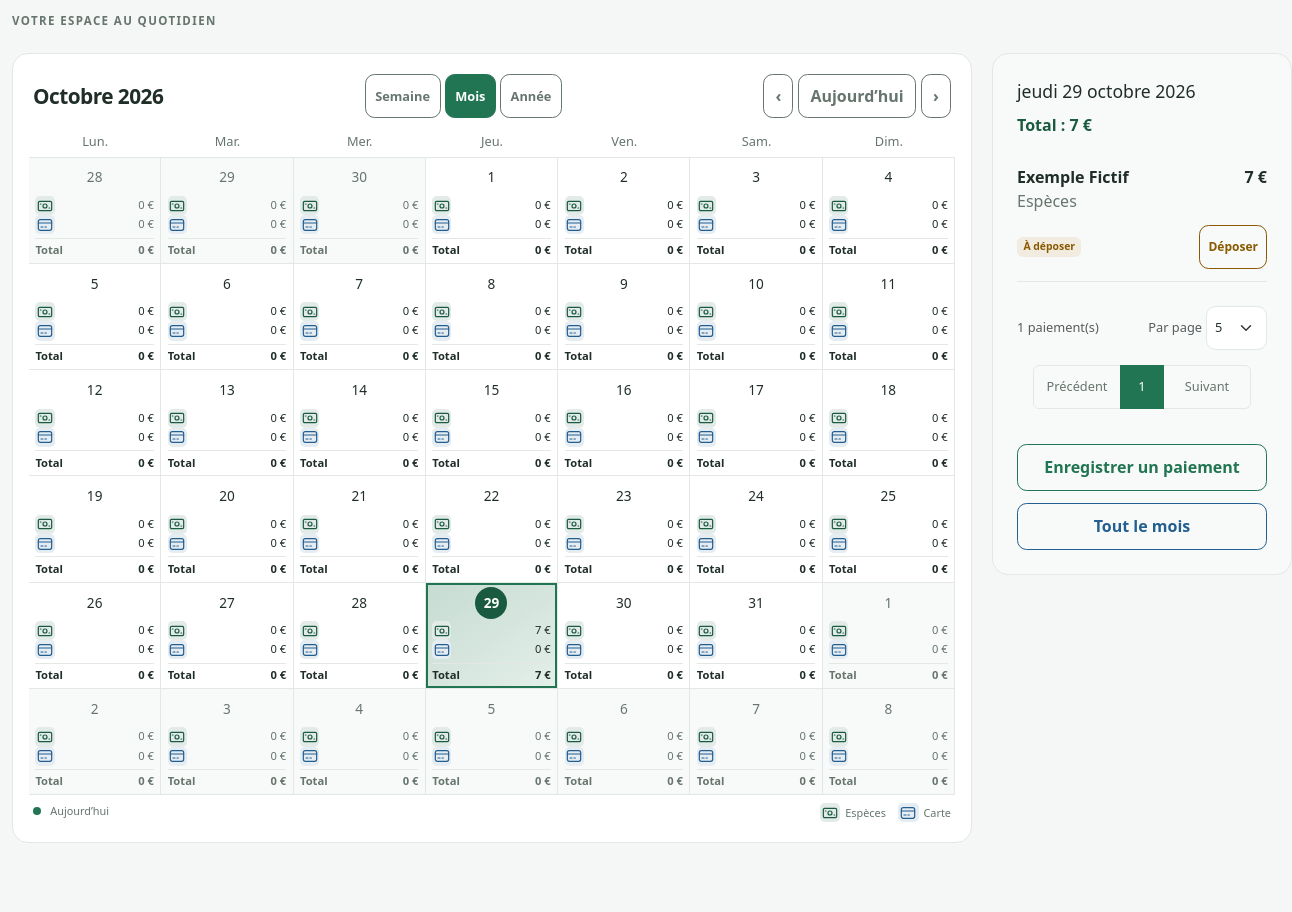
chargement lent : aucun ancien total/liste, réponses dépassées ignorées
Expected: the element named "Calendrier " is shown, [29,157,955,794]
Expected: the text "Total : 7 €" is shown, [1017,114,1092,136]
Click the button "Année" at (531, 96), box [500,74,562,118]
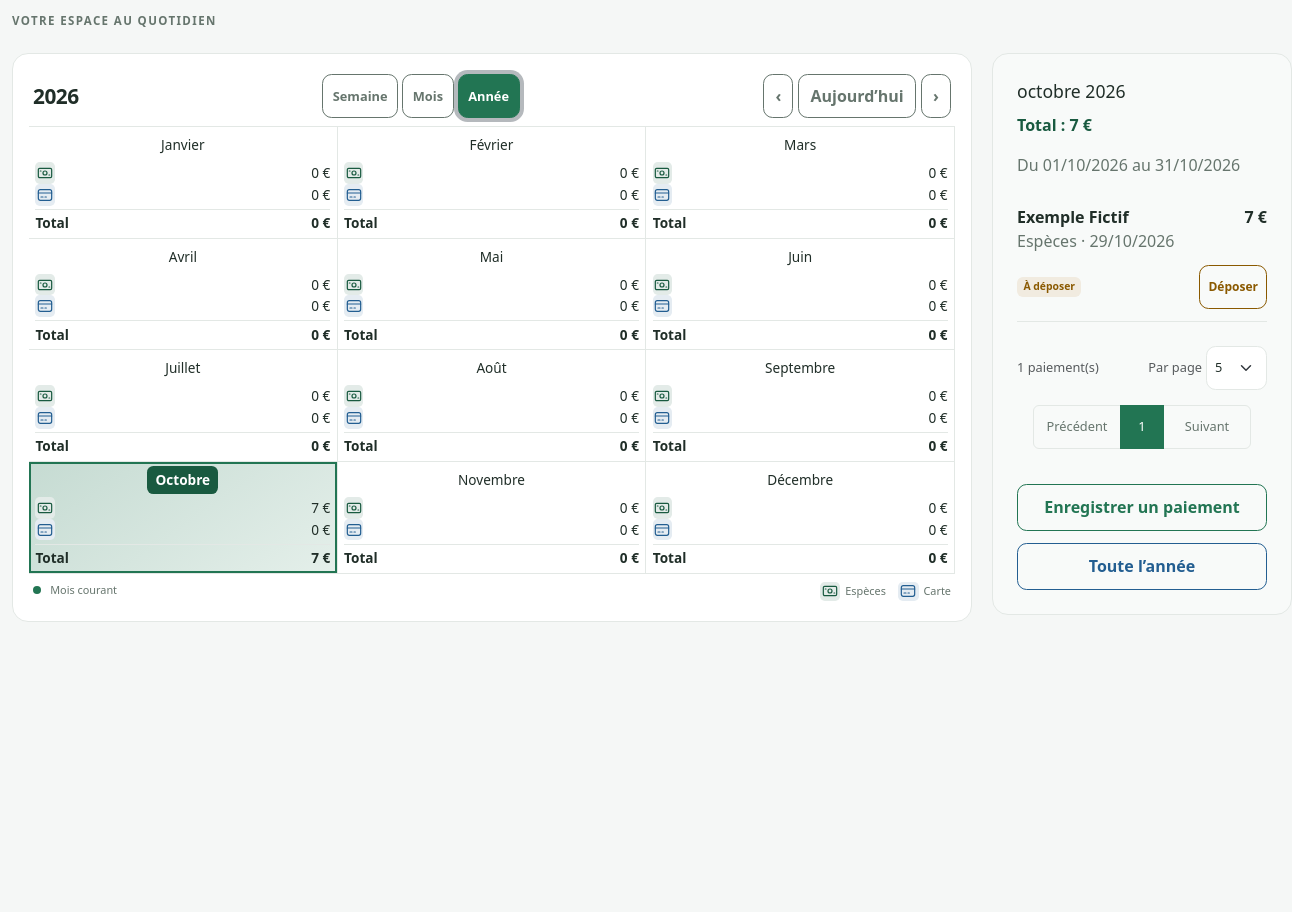
Expected: the list named "Paiements de la période" is shown, [1017,193,1267,322]
Click the button named "Année suivante" at (936, 96), box [921,74,951,118]
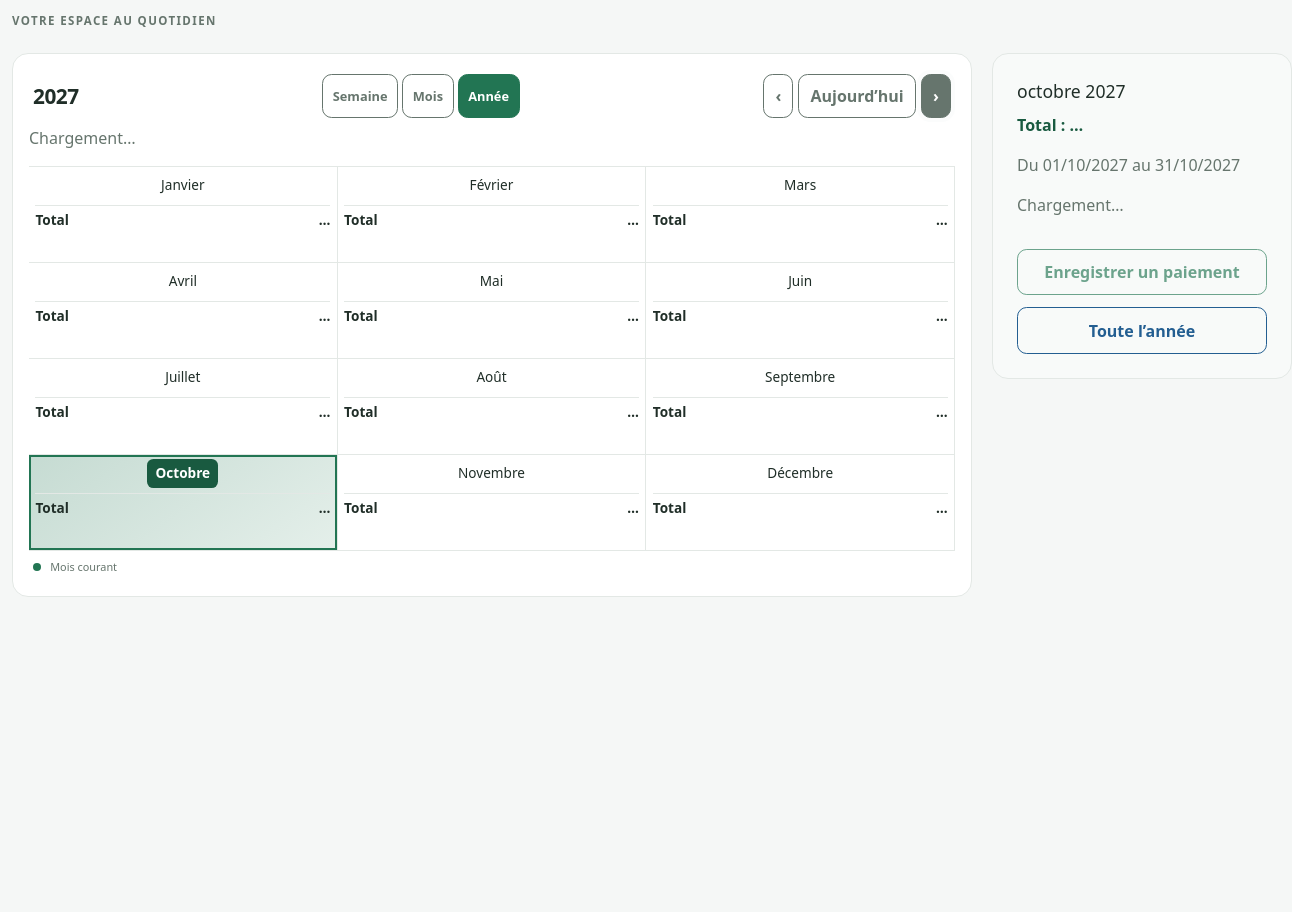
Expected: the text "Total : …" is shown, [1017,114,1083,136]
Expected: the list is gone
Click the button named "Année précédente" at (778, 96), box [763,74,794,118]
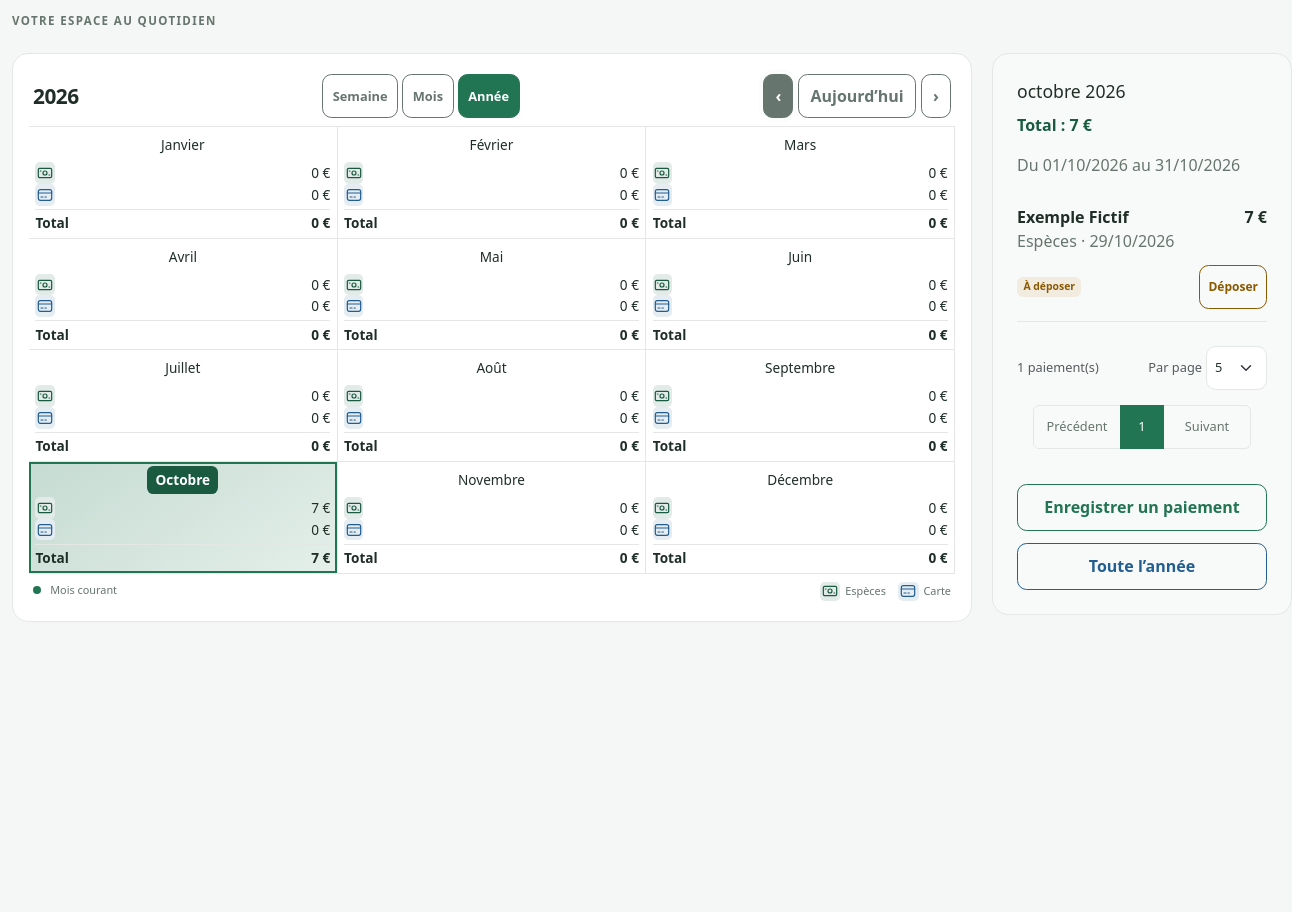
Expected: the text "Total : 7 €" is shown, [1017,114,1092,136]
